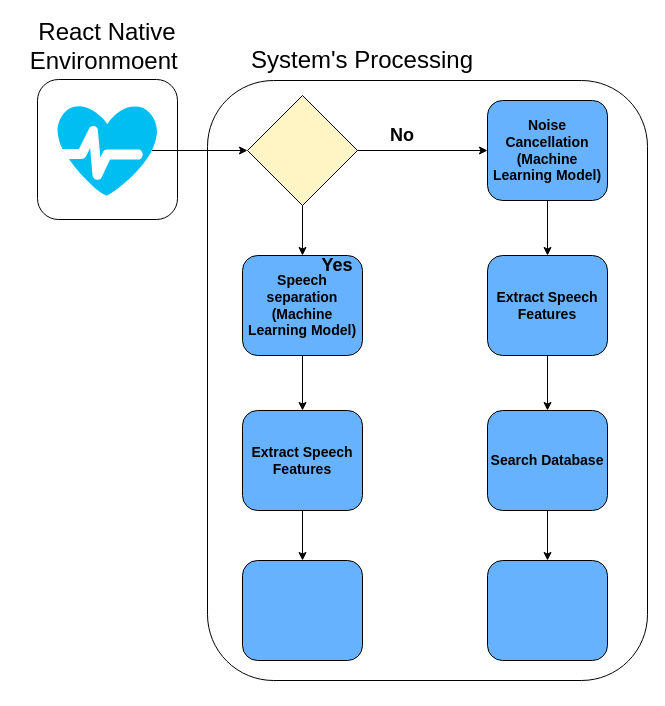
Image size: 665x706. Some labels were removed from this diagram. Each missing label, with the centre of its shape:
"Display Result" goes at pixel 547 610.
"First time user?" goes at pixel 302 150.
"Store Speech Features in Database" goes at pixel 302 610.
